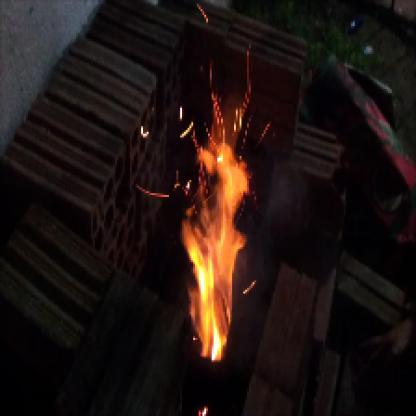Fire: (180, 67, 264, 369)
